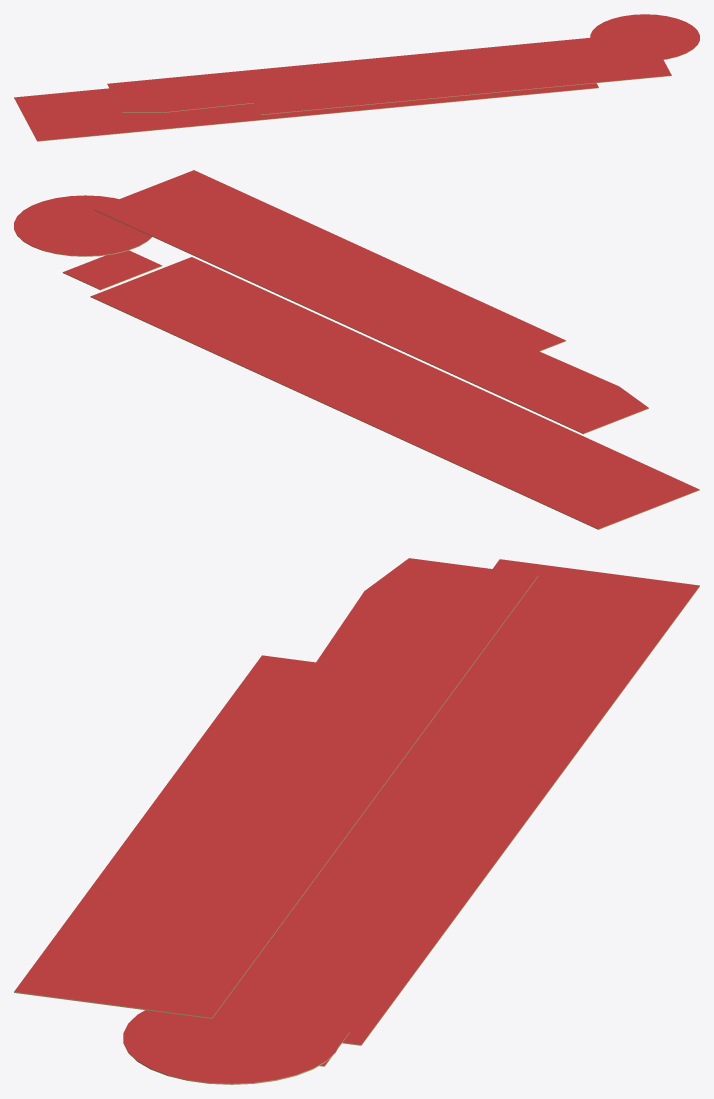
The picture shows the model from 3 angles, top to bottom: view 1: azimuth 30°, elevation 25°; view 2: azimuth 150°, elevation 25°; view 3: azimuth 270°, elevation 25°; orthographic projection. The views are drawn at different scales.
Visible parts, largest first — view 1: group_6, group_9, group_12, group_10, group_7; view 2: group_9, group_6, group_12, group_3, group_10, group_7; view 3: group_6, group_9, group_12, group_7.
Boxes of the visible parts, left/top/right/bottom form: group_6: left=107, top=32, right=671, bottom=114; group_9: left=14, top=83, right=598, bottom=140; group_12: left=590, top=14, right=699, bottom=59; group_10: left=14, top=87, right=598, bottom=141; group_7: left=107, top=75, right=671, bottom=114; group_9: left=90, top=257, right=699, bottom=528; group_6: left=94, top=170, right=648, bottom=433; group_12: left=14, top=195, right=151, bottom=255; group_3: left=63, top=250, right=161, bottom=289; group_10: left=90, top=296, right=699, bottom=529; group_7: left=93, top=209, right=648, bottom=434; group_6: left=14, top=558, right=538, bottom=1017; group_9: left=232, top=559, right=699, bottom=1044; group_12: left=123, top=991, right=340, bottom=1083; group_7: left=14, top=575, right=538, bottom=1018.
Size of the model in its own units: 115 by 58.55 by 5.83.
